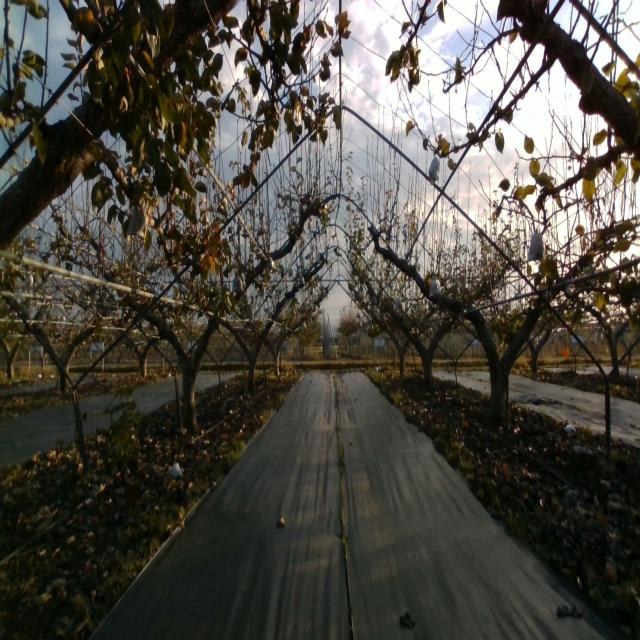pearbags: (125, 202, 149, 244), (527, 228, 544, 263), (429, 152, 439, 185), (232, 271, 244, 295), (429, 275, 441, 298), (266, 256, 276, 274)
